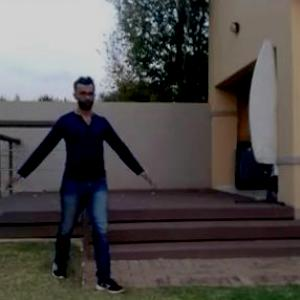land: (0, 72, 161, 298)
